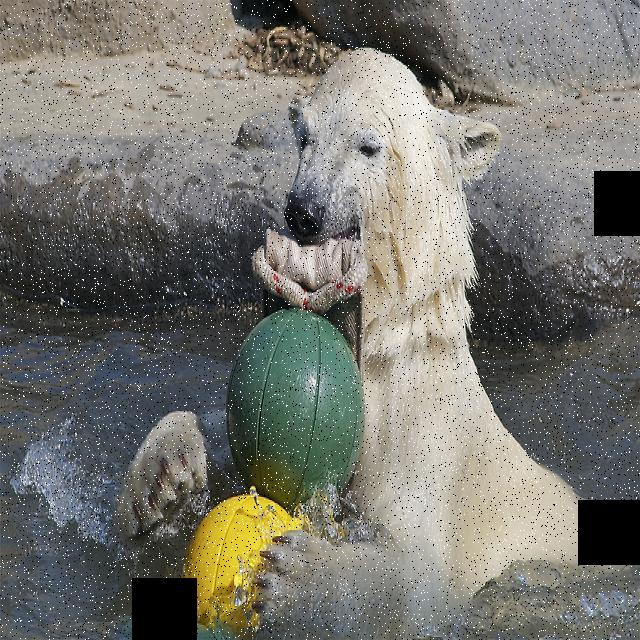Bear: (98, 9, 639, 640)
